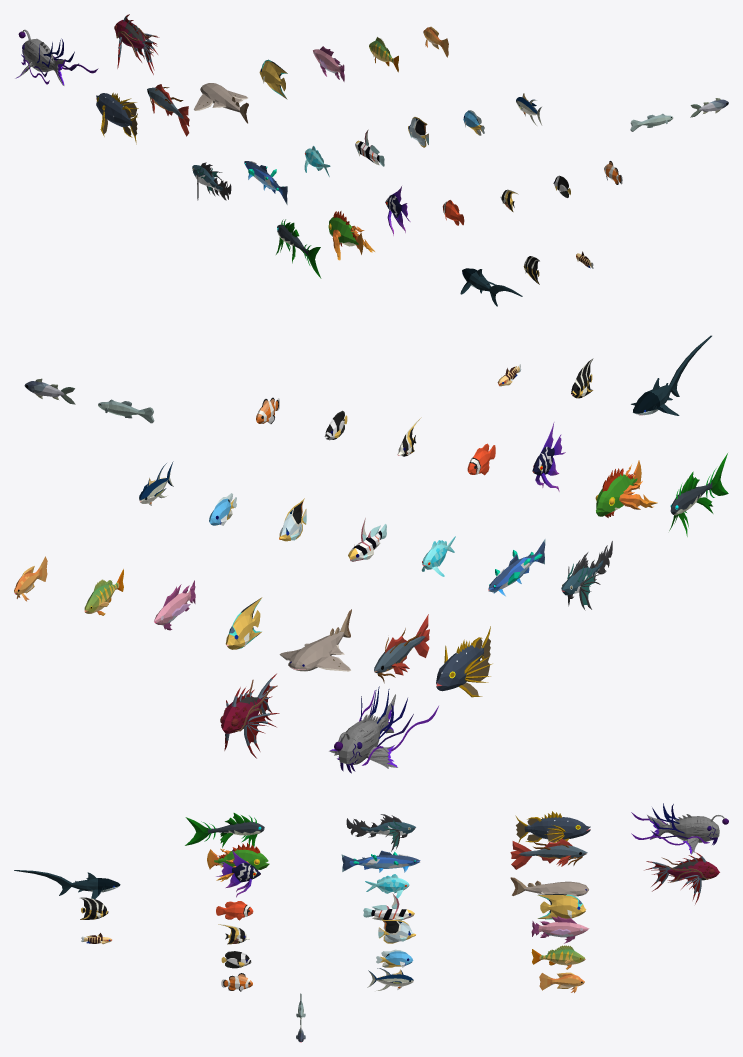
The model's file is AllFish.obj.
The picture shows the model from 3 angles, top to bottom: view 1: azimuth 30°, elevation 25°; view 2: azimuth 150°, elevation 25°; view 3: azimuth 270°, elevation 25°; orthographic projection. The views are drawn at different scales.
Parts seen in each view (by area): view 1: Angelshark60yu013angelshark11, Azuresturgeon63pcone12group11, Jadefin56yu022clownfish11, Venomfish42pplane2group11, Infernopike40yu026polysurface61, Firetailtilapia5group1yu022clownfish21, Threshershark46yu015commonthreshershark11, Thunderfin11pcone121, Queenangelfish50yu09yu11, Bluemoonfish15group2pcylinder11, Chimeraperch49yu010yellowfintuna21, Tropicalbutterfly31sxyu131 (+1 smaller); view 2: Angelshark60yu013angelshark11, Azuresturgeon63pcone12group11, Jadefin56yu022clownfish11, Venomfish42pplane2group11, Firetailtilapia5group1yu022clownfish21, Infernopike40yu026polysurface61, Tropicalbutterfly31sxyu131, Threshershark46yu015commonthreshershark11, Thunderfin11pcone121, Queenangelfish50yu09yu11, Chimeraperch49yu010yellowfintuna21, Bluemoonfish15group2pcylinder11 (+4 smaller); view 3: Azuresturgeon63pcone12group11, Infernopike40yu026polysurface61, Venomfish42pplane2group11, Thunderfin11pcone121, Firetailtilapia5group1yu022clownfish21, Threshershark46yu015commonthreshershark11, Queenangelfish50yu09yu11, Bluemoonfish15group2pcylinder11, Angelshark60yu013angelshark11, Chimeraperch49yu010yellowfintuna21, Jadefin56yu022clownfish11, Purplefin54yu05yu201 (+12 smaller).
Part boxes in pixels (<box>): Angelshark60yu013angelshark11: <box>194,83,248,123</box>; Azuresturgeon63pcone12group11: <box>96,92,138,144</box>; Jadefin56yu022clownfish11: <box>328,217,374,260</box>; Venomfish42pplane2group11: <box>276,222,321,278</box>; Infernopike40yu026polysurface61: <box>147,84,189,136</box>; Firetailtilapia5group1yu022clownfish21: <box>115,16,154,62</box>; Threshershark46yu015commonthreshershark11: <box>460,268,522,306</box>; Thunderfin11pcone121: <box>192,162,231,200</box>; Queenangelfish50yu09yu11: <box>259,59,287,99</box>; Bluemoonfish15group2pcylinder11: <box>244,161,287,204</box>; Chimeraperch49yu010yellowfintuna21: <box>313,46,344,81</box>; Tropicalbutterfly31sxyu131: <box>22,38,65,85</box>; Angelshark60yu013angelshark11: <box>279,609,351,671</box>; Azuresturgeon63pcone12group11: <box>436,626,492,697</box>; Jadefin56yu022clownfish11: <box>596,460,657,516</box>; Venomfish42pplane2group11: <box>669,453,728,536</box>; Firetailtilapia5group1yu022clownfish21: <box>221,678,272,745</box>; Infernopike40yu026polysurface61: <box>374,614,429,675</box>; Tropicalbutterfly31sxyu131: <box>339,694,395,764</box>; Threshershark46yu015commonthreshershark11: <box>631,335,711,415</box>; Thunderfin11pcone121: <box>561,541,612,610</box>; Queenangelfish50yu09yu11: <box>225,597,262,649</box>; Chimeraperch49yu010yellowfintuna21: <box>154,580,195,630</box>; Bluemoonfish15group2pcylinder11: <box>488,539,545,596</box>; Azuresturgeon63pcone12group11: <box>515,811,590,843</box>; Infernopike40yu026polysurface61: <box>510,839,587,869</box>; Venomfish42pplane2group11: <box>185,813,264,847</box>; Thunderfin11pcone121: <box>346,814,415,851</box>; Firetailtilapia5group1yu022clownfish21: <box>652,856,719,893</box>; Threshershark46yu015commonthreshershark11: <box>14,870,120,898</box>; Queenangelfish50yu09yu11: <box>537,894,586,919</box>; Bluemoonfish15group2pcylinder11: <box>341,850,420,872</box>; Angelshark60yu013angelshark11: <box>510,877,588,896</box>; Chimeraperch49yu010yellowfintuna21: <box>531,916,589,943</box>; Jadefin56yu022clownfish11: <box>207,848,269,881</box>; Purplefin54yu05yu201: <box>216,850,260,897</box>.
Size of the model in its own units: 74.11 by 9.12 by 101.
33 materials, 8 textured.
